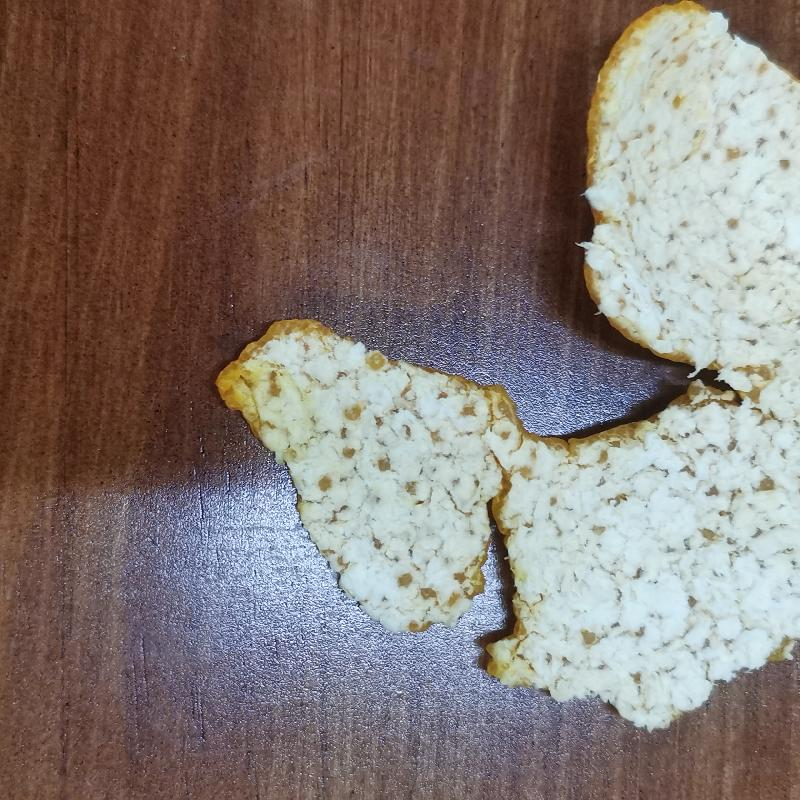orange: (210, 2, 799, 735)
